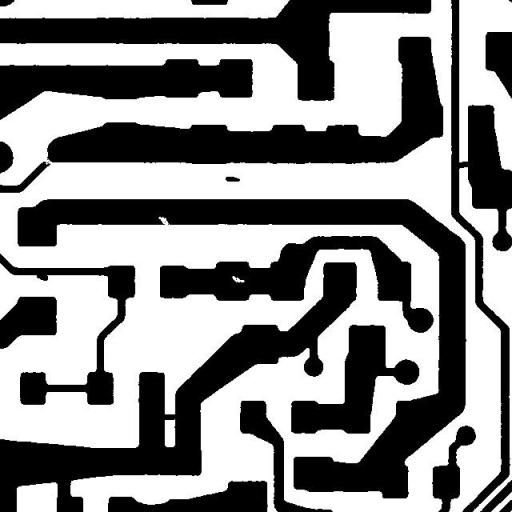copper: (218, 169, 247, 189)
mousebite: (150, 208, 178, 234)
open: (34, 150, 60, 172)
pin-hole: (224, 268, 252, 290)
short: (444, 154, 478, 178), (154, 406, 186, 428)
spur: (29, 266, 55, 288)
